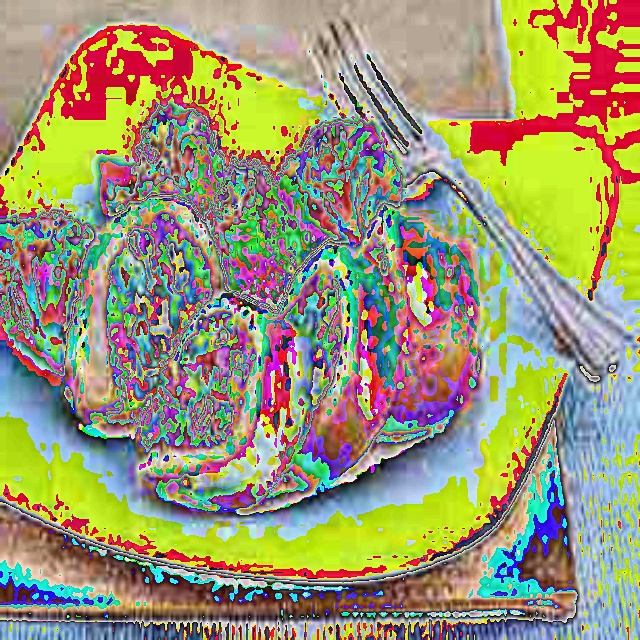background: (0, 104, 486, 511)
